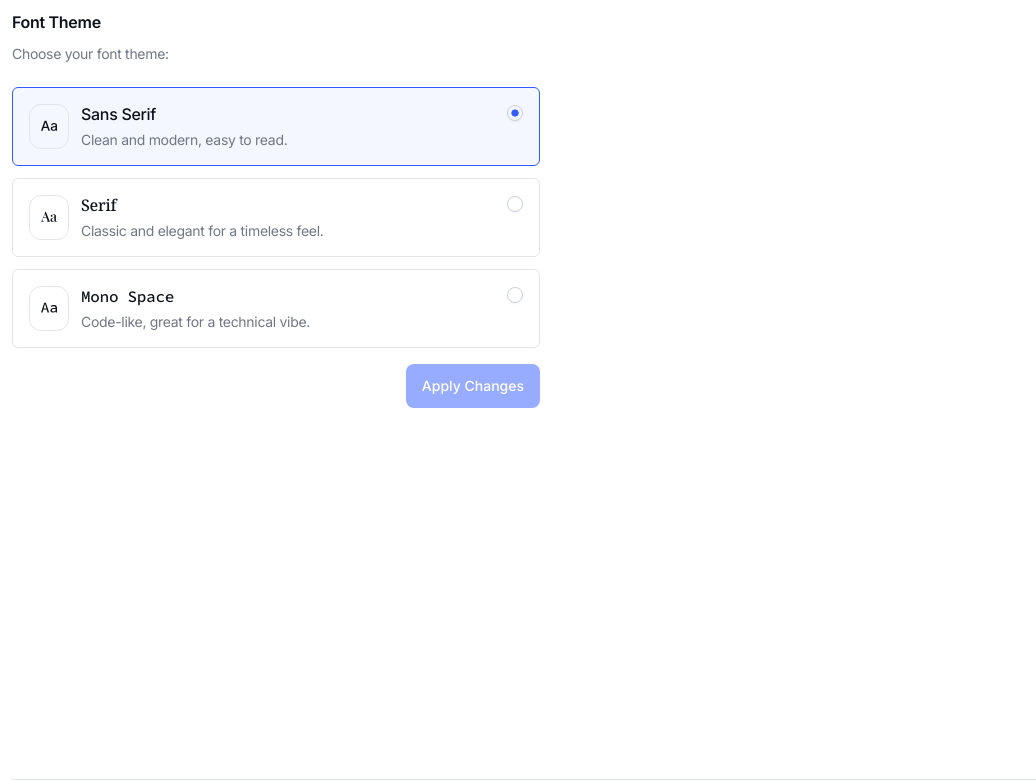
Test case: FontOptionsPage › Apply Changes is disabled until a different option is picked
This screenshot has width=1036, height=780.
Expected: the button "Apply Changes" is disabled, [406, 364, 540, 408]
Step 1. Click the 2nd radio button named "serif" → (515, 204), box [507, 196, 523, 212]
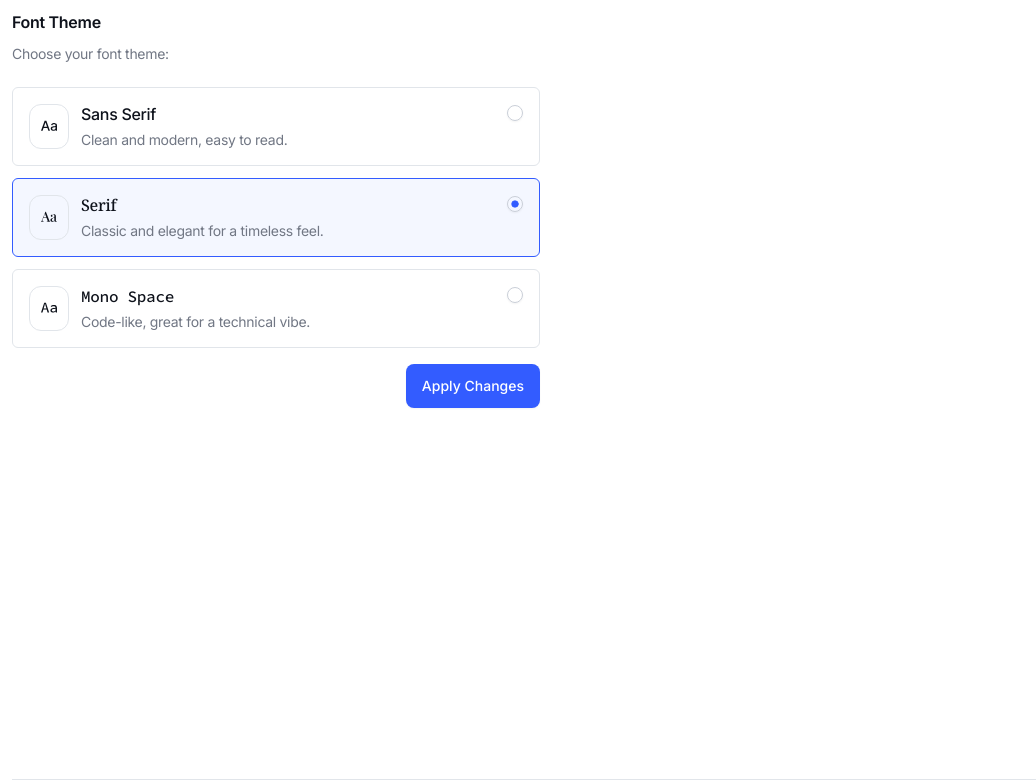
Now the button "Apply Changes" is enabled, box [406, 364, 540, 408]
